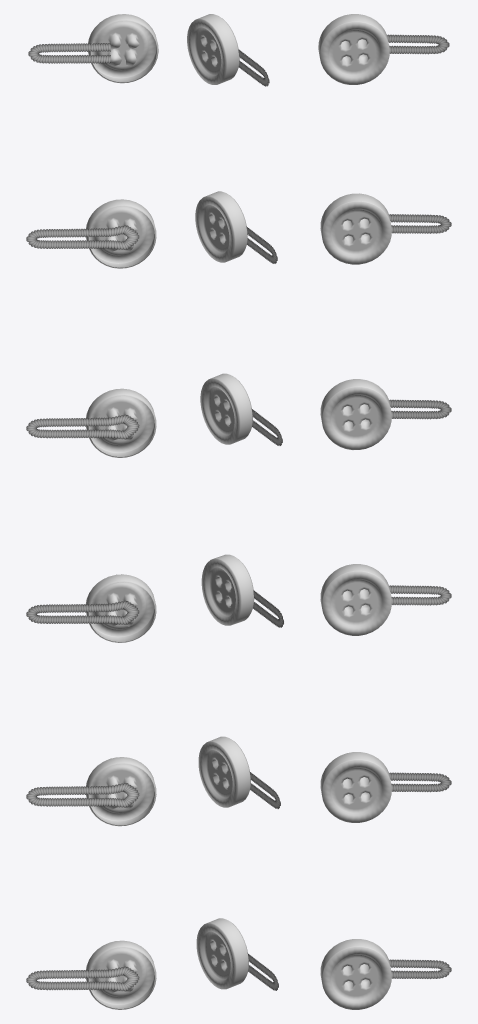
Rendered from 6_buttons.glb.
The picture shows the model from 3 angles, left to right: view 1: azimuth 90°, elevation 25°; view 2: azimuth 210°, elevation 25°; view 3: azimuth 270°, elevation 25°; orthographic projection. The views are drawn at different scales.
Parts seen in each view (by area): view 1: SM_Button_6; view 2: SM_Button_6; view 3: SM_Button_6.
Part boxes in pixels (<box>): SM_Button_6: <box>26,14,158,1009</box>; SM_Button_6: <box>187,14,283,990</box>; SM_Button_6: <box>318,14,451,1009</box>.
Bounding box in the file's own units: 0.0405 × 1.1 × 0.1455.
Materials: 2 (1 with a texture image).
